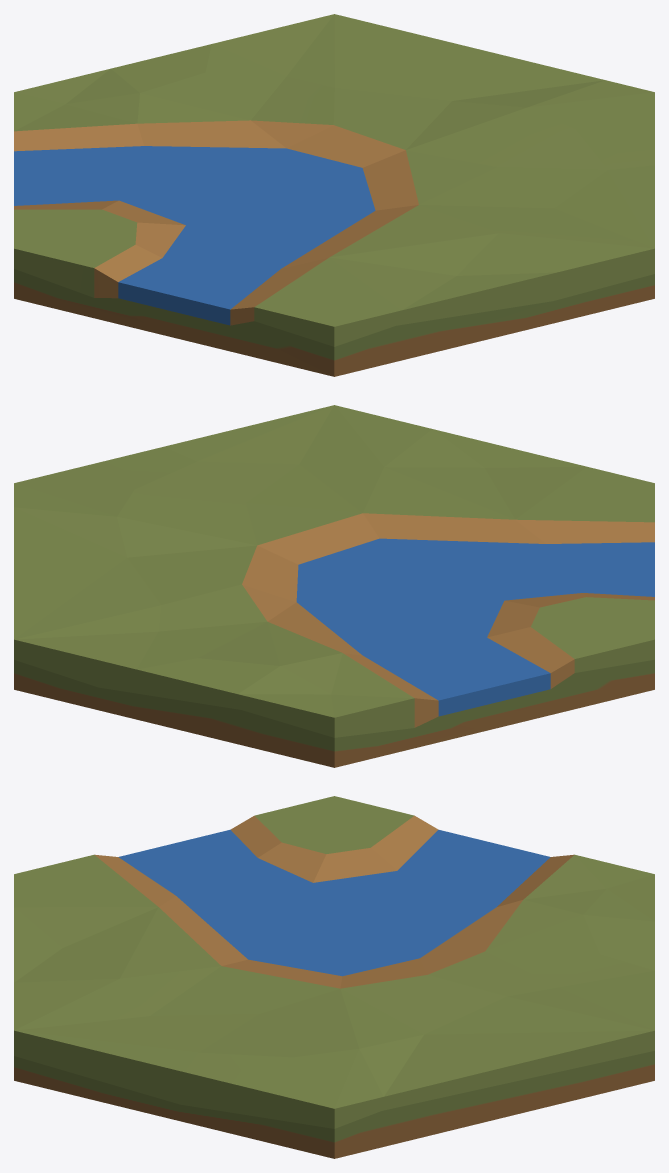
File: SM_Tile_Hex_River_06.glb
The picture shows the model from 3 angles, top to bottom: view 1: azimuth 30°, elevation 25°; view 2: azimuth 150°, elevation 25°; view 3: azimuth 270°, elevation 25°; orthographic projection.
Visible parts, largest first — view 1: SM_Tile_Hex_River_06; view 2: SM_Tile_Hex_River_06; view 3: SM_Tile_Hex_River_06.
Part boxes in pixels (<box>): SM_Tile_Hex_River_06: <box>14,14,654,376</box>; SM_Tile_Hex_River_06: <box>14,405,654,767</box>; SM_Tile_Hex_River_06: <box>14,796,654,1158</box>.
Size of the model in its own units: 5.77 by 0.4635 by 5.
1 material, 1 textured.
